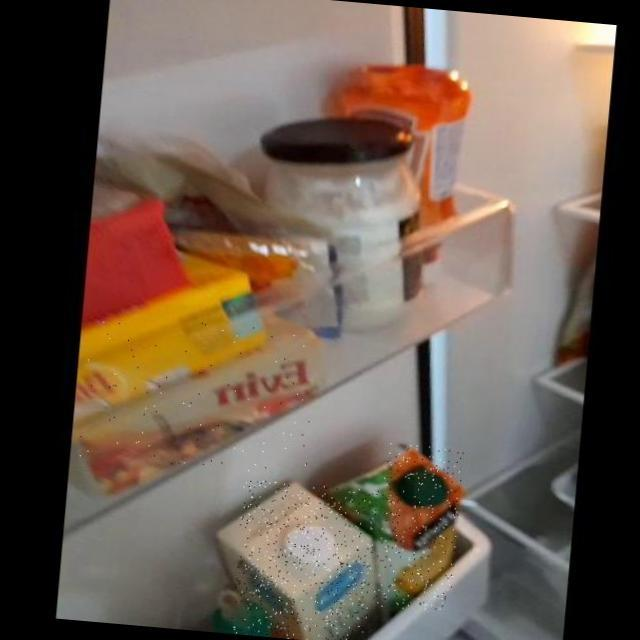Mantequilla: (75, 312, 321, 476)
